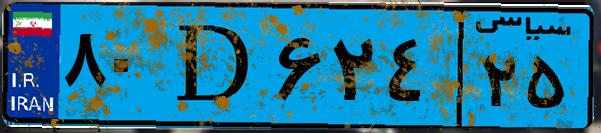0: (110, 28, 158, 98)
2: (330, 28, 385, 110), (475, 38, 525, 113)
4: (385, 28, 445, 110)
5: (525, 38, 570, 115)
6: (270, 28, 330, 110)
8: (57, 26, 110, 100)
D: (158, 12, 270, 120)
